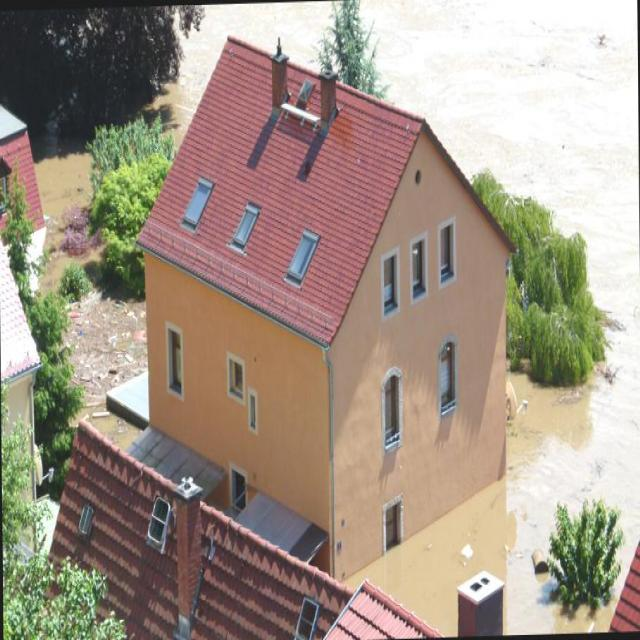flood: (494, 0, 639, 635)
